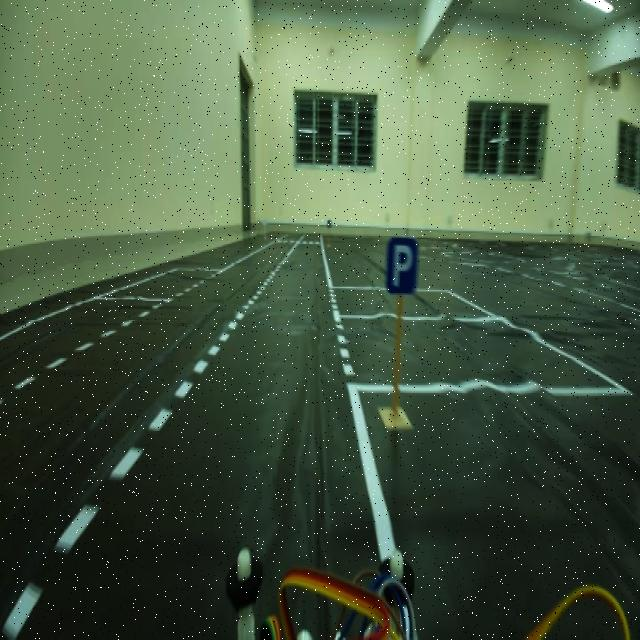parking: (379, 227, 432, 306)
